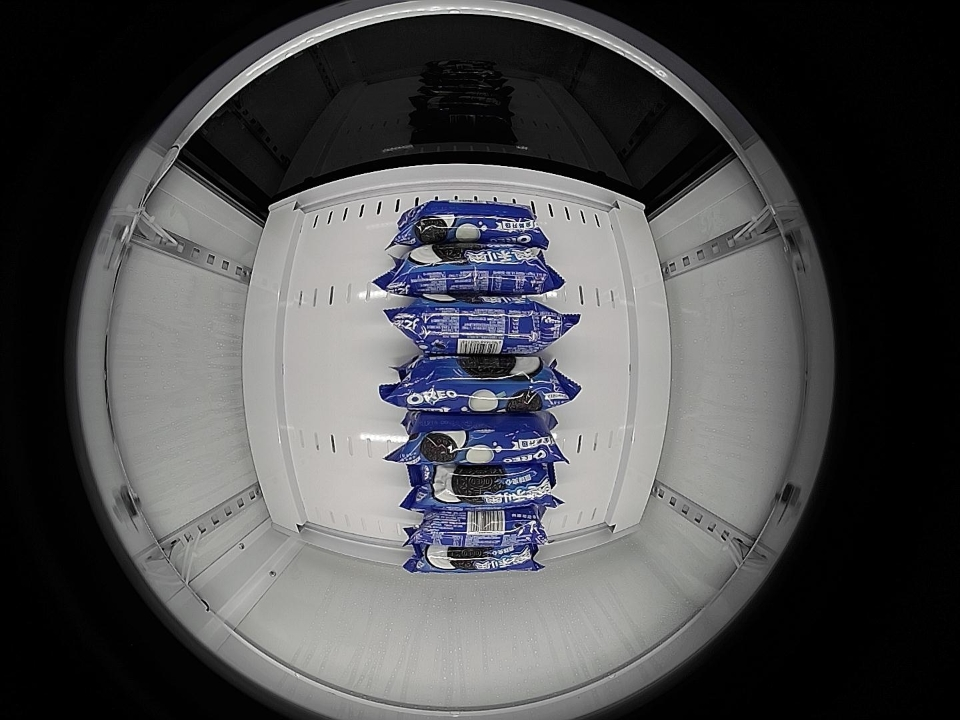aoliao: (386, 294, 568, 353), (394, 355, 564, 414), (400, 412, 559, 465), (388, 247, 551, 298), (399, 204, 544, 252), (409, 463, 554, 506), (411, 506, 549, 540), (414, 543, 538, 573)
